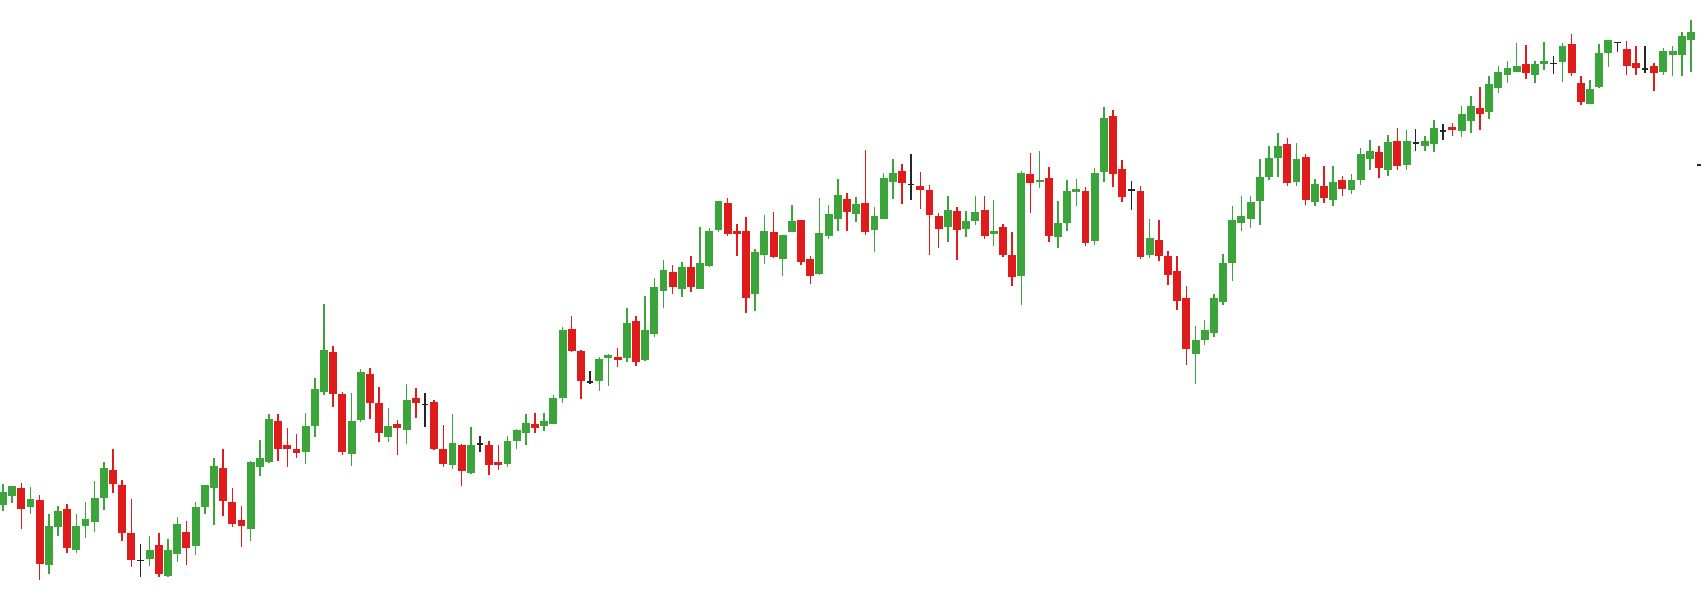buy: (63, 477, 172, 585), (669, 243, 759, 319)
sell: (1025, 107, 1120, 208)
